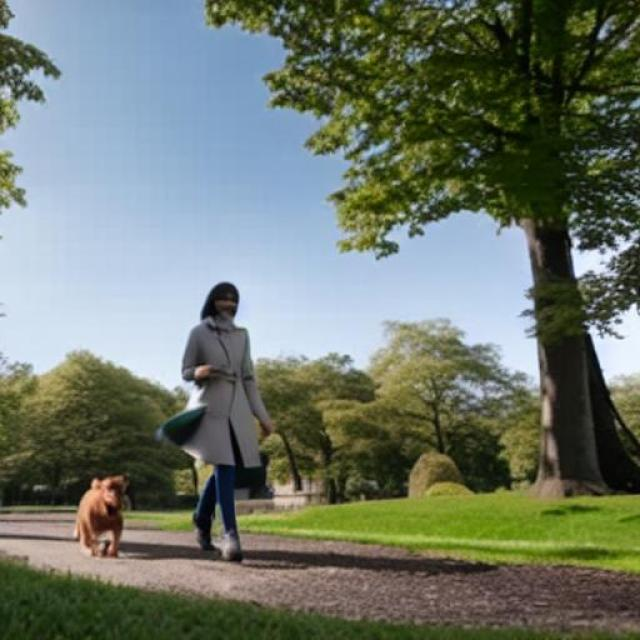Unleashed_Dog: (71, 397, 250, 558)
